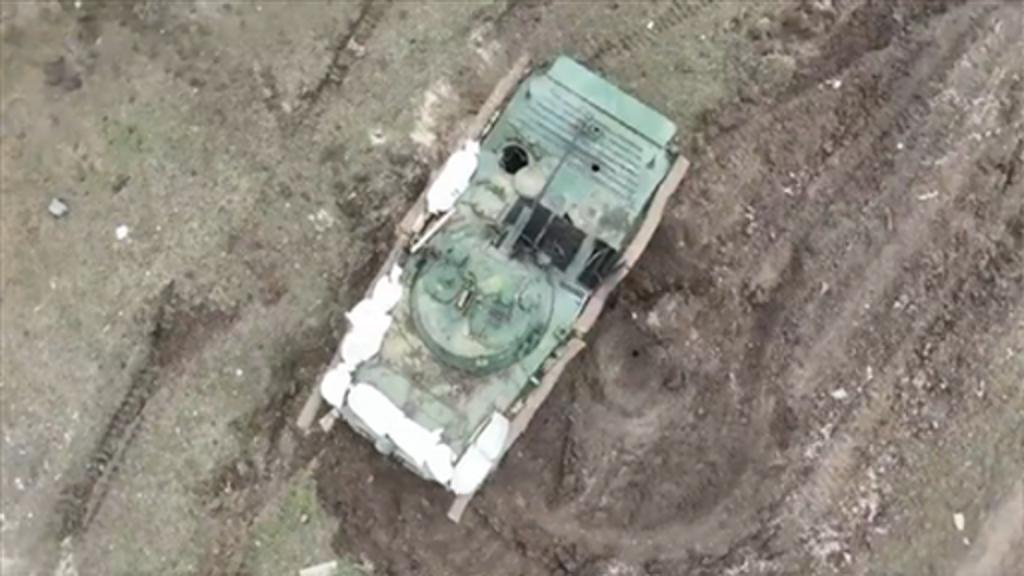APC-IFV: (310, 44, 700, 512)
